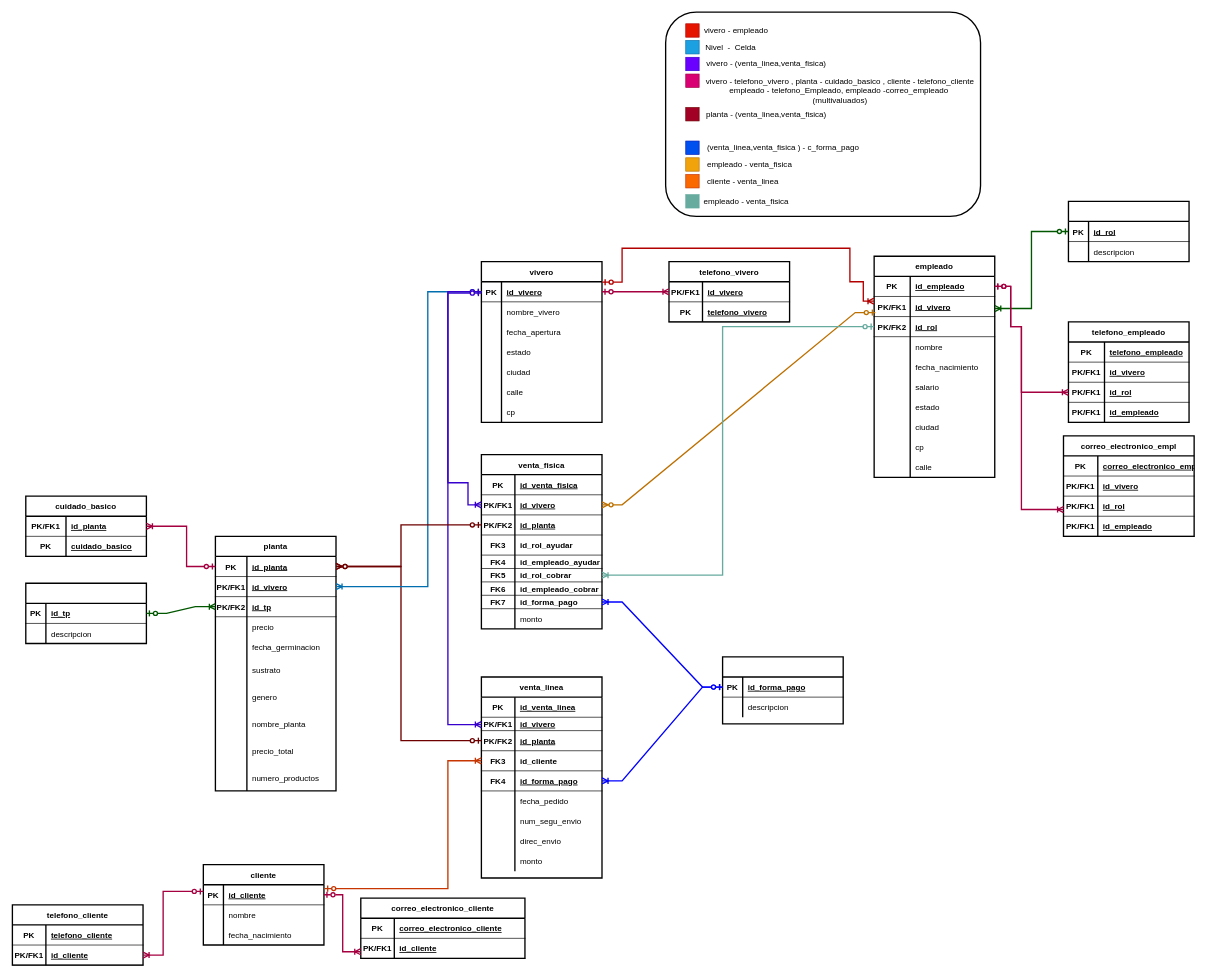
The diagram is 1209 pixels wide and 978 high, and some of its shapes have lost their labels. The box of each missing label's shape, as (x1, y1, x2, y2) in pixels:
c_forma_de_pago: (722, 656, 844, 724)
c_rol: (1067, 200, 1189, 262)
c_tipo_planta: (25, 582, 147, 644)
